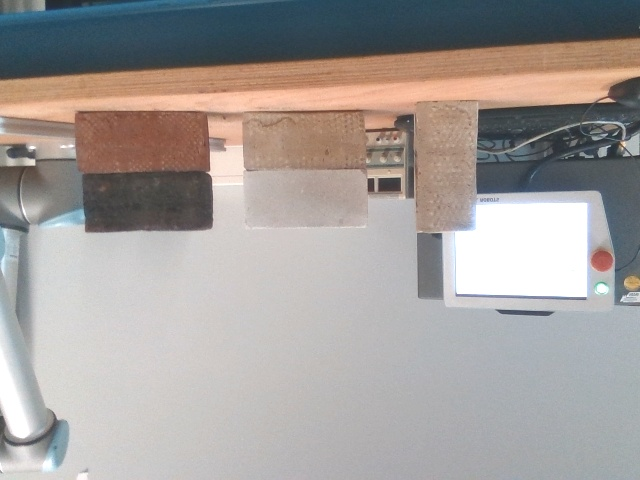brick: (77, 110, 209, 172), (414, 99, 476, 230), (83, 172, 213, 232), (244, 106, 365, 169), (243, 167, 368, 227)
